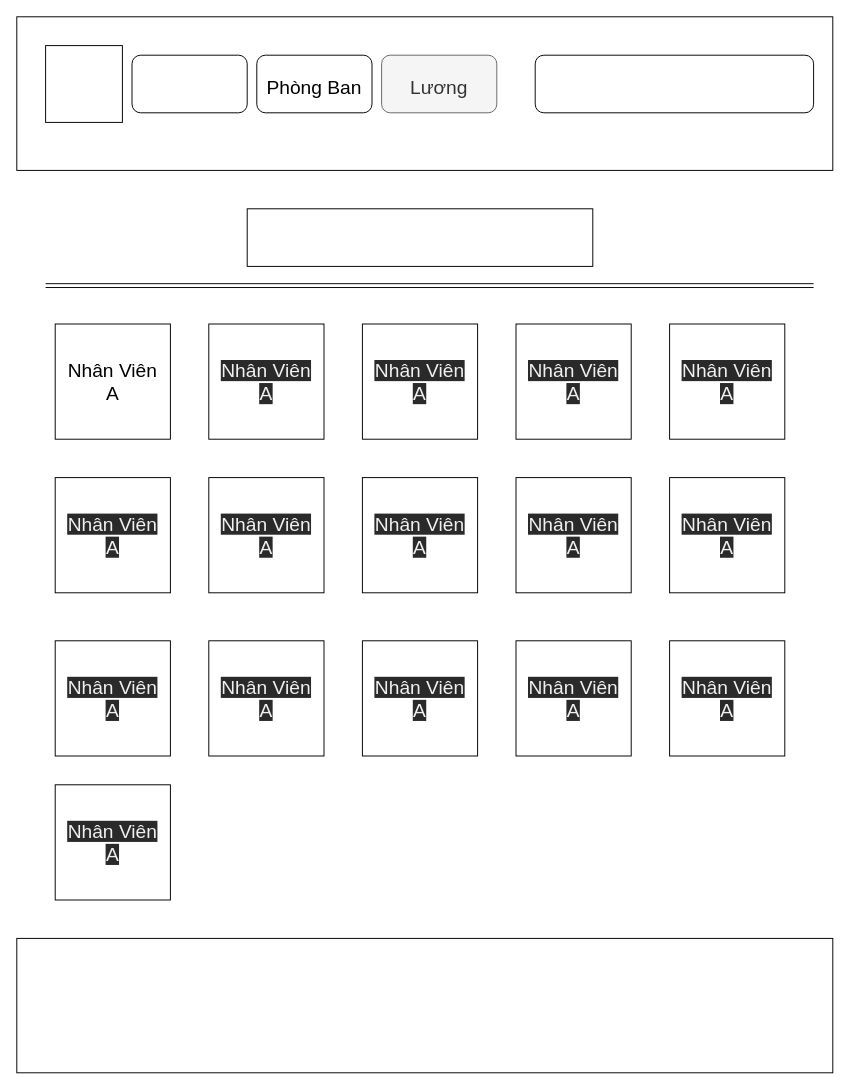
Some shapes in this 850 by 1090 pixel diagram are drawn without their labels. The shapes that lost their labels are listed below. From the top down, each one's box as (x1, y1, x2, y2) in pixels, then its label:
(45, 45, 122, 122): Logo
(534, 54, 814, 113): Tìm kiếm
(246, 208, 593, 266): Sắp xếp
(16, 937, 833, 1073): Footer
